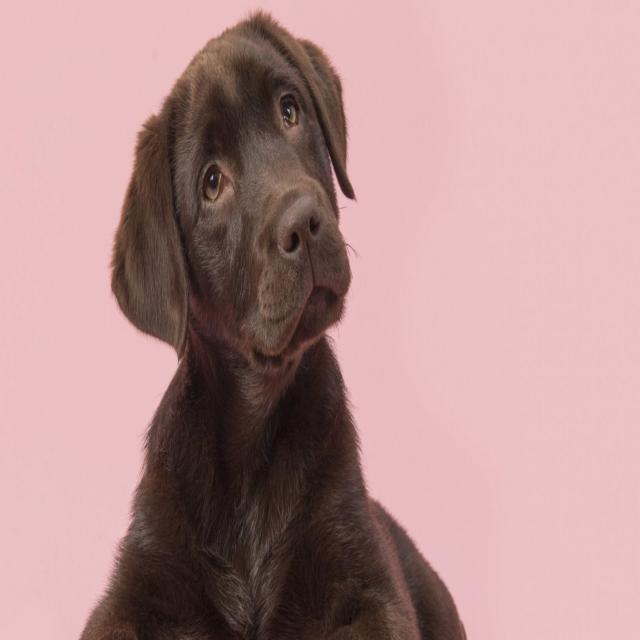Dog: (78, 6, 469, 640)
